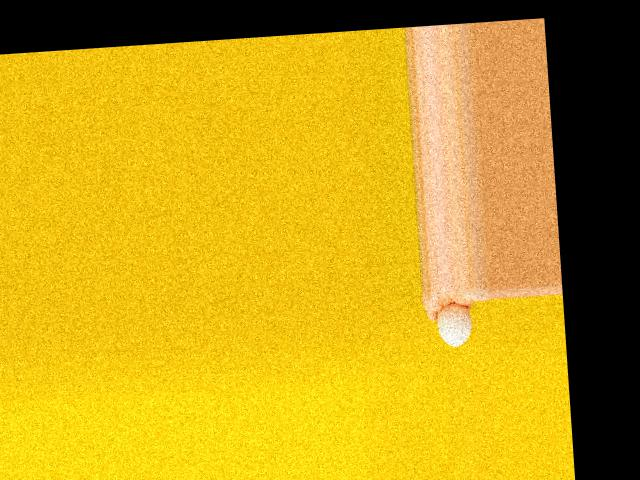egg: (436, 302, 471, 347)
